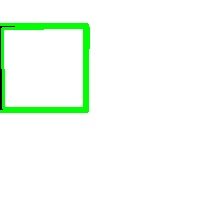line_segment: (0, 23, 89, 113), (2, 26, 85, 109)
